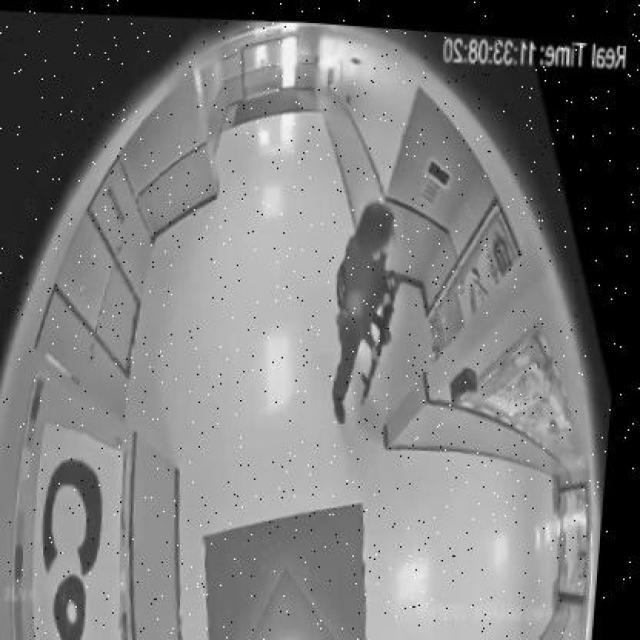weapon: (358, 270, 408, 402)
